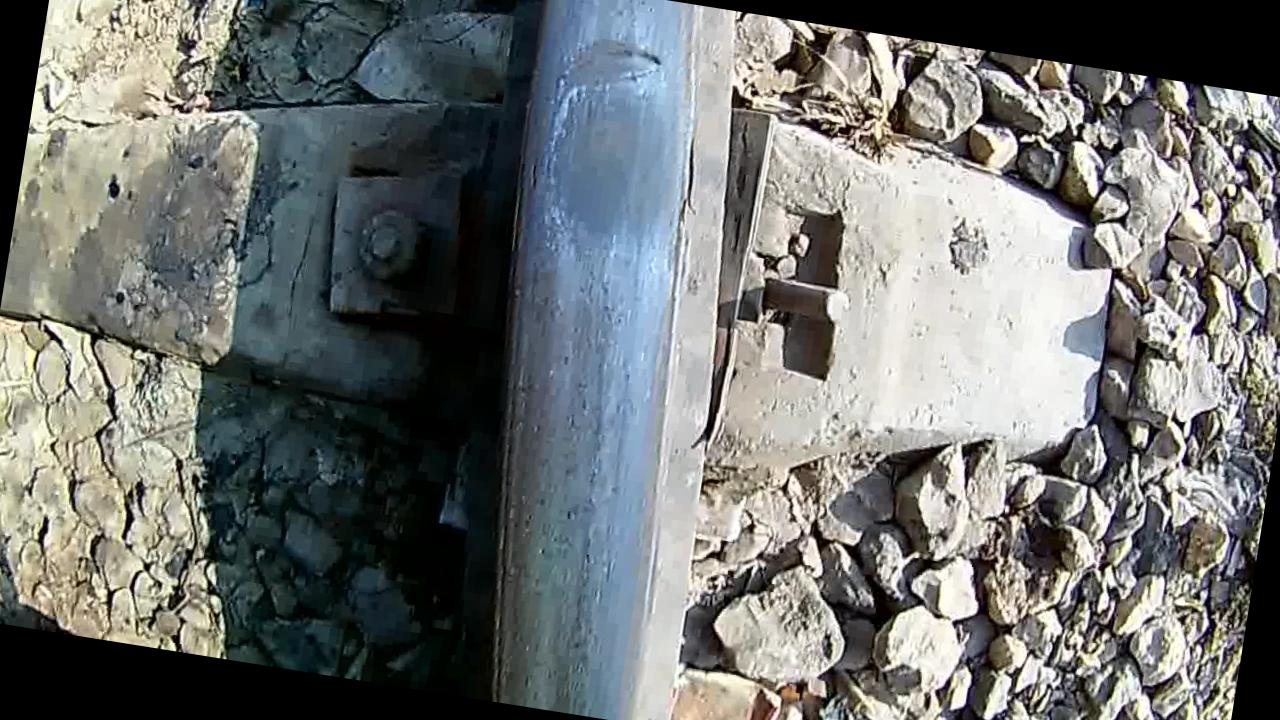bolt_missing: (481, 0, 750, 407)
